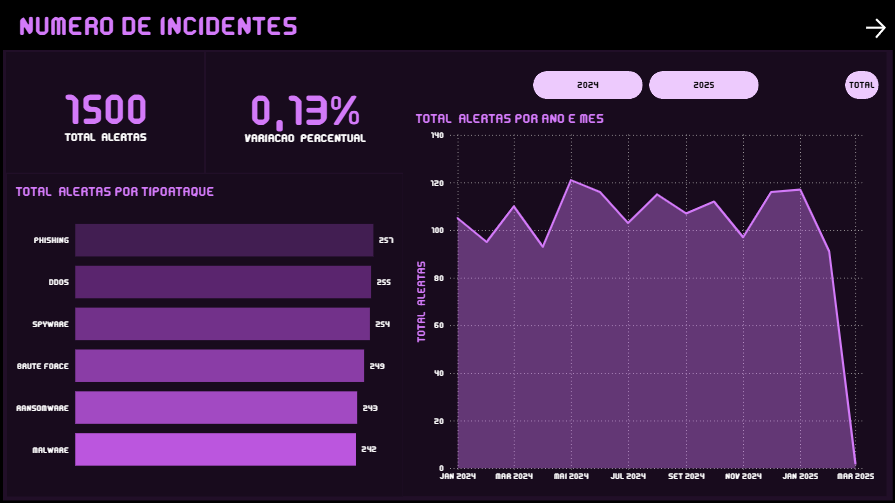

The dashboard page shown, as its layout file describes it:
{"tool":"powerbi","page":{"name":"Numero de Incidentes","canvas":[1280,720],"ordinal":0},"visuals":[{"type":"shape","title":"Fundo","box":[7,72,1266,641],"z":0},{"type":"shape","box":[12,76,281.8,171.8],"z":0,"group":"g4"},{"type":"shape","box":[295.5,76,281,171.8],"z":0,"group":"g3"},{"type":"shape","box":[577,76,688.4,632.2],"z":0,"group":"g1"},{"type":"shape","box":[13,248.6,563.1,459.5],"z":0,"group":"g2"},{"type":"group","id":"g1","title":"Grafico Alertas por data","box":[577,76,688.4,632.2],"z":1000},{"type":"card","fields":{"Values":["F_Incidentes.Total_Alertas"]},"box":[18.7,84.9,269.3,152.8],"z":1000,"group":"g4"},{"type":"card","fields":{"Values":["F_Incidentes.Variacao_Percentual"]},"box":[302.2,86,268.5,152.8],"z":1000,"group":"g3"},{"type":"areaChart","title":"Total_Alertas por Ano e Mes","fields":{"Y":["F_Incidentes.Total_Alertas"],"Category":["TabelaData.Date.Variation.Hierarquia de datas.Ano","TabelaData.Date.Variation.Hierarquia de datas.Mês"]},"box":[590.4,160.2,662.9,534.3],"z":1000,"group":"g1"},{"type":"barChart","fields":{"Y":["F_Incidentes.Total_Alertas"],"Category":["D_Tipoataque.TipoAtaque"]},"box":[19.7,262.2,550.6,431],"z":1000,"group":"g2"},{"type":"group","id":"g2","title":"Grafico Alertas x Tipos","box":[13,248.6,563.1,459.5],"z":2000},{"type":"group","id":"g3","title":"Variação Percentual Ano","box":[295.5,76,280.9,171.8],"z":3000},{"type":"group","id":"g4","title":"Total Alertas por Ano","box":[12,76,281.8,171.8],"z":4000},{"type":"actionButton","title":"B_Total","box":[1205.5,101.8,48.2,40],"z":5000},{"type":"actionButton","title":"B_2025","box":[926.4,101.8,156.4,40],"z":6000},{"type":"actionButton","title":"B_2024","box":[760.9,101.8,156.4,40],"z":7000},{"type":"textbox","title":"Titulo","box":[24,13,437,59],"z":8000},{"type":"actionButton","box":[1229.9,23.3,38,38],"z":10000}]}

Visuals, with their boxes in screenshot pixels (x1, y1, x2, y2), scaled from the page's 1280x720 canvas onto the 895x503 screenshot:
"Fundo" shape: 5/50/890/498
shape: 8/53/205/173
shape: 207/53/403/173
shape: 403/53/885/495
shape: 9/174/403/495
"Grafico Alertas por data" group: 403/53/885/495
card - F_Incidentes.Total_Alertas: 13/59/201/166
card - F_Incidentes.Variacao_Percentual: 211/60/399/167
"Total_Alertas por Ano e Mes" areaChart: 413/112/876/485
barChart - F_Incidentes.Total_Alertas x D_Tipoataque.TipoAtaque: 14/183/399/484
"Grafico Alertas x Tipos" group: 9/174/403/495
"Variação Percentual Ano" group: 207/53/403/173
"Total Alertas por Ano" group: 8/53/205/173
"B_Total" actionButton: 843/71/877/99
"B_2025" actionButton: 648/71/757/99
"B_2024" actionButton: 532/71/641/99
"Titulo" textbox: 17/9/322/50
actionButton: 860/16/887/43
